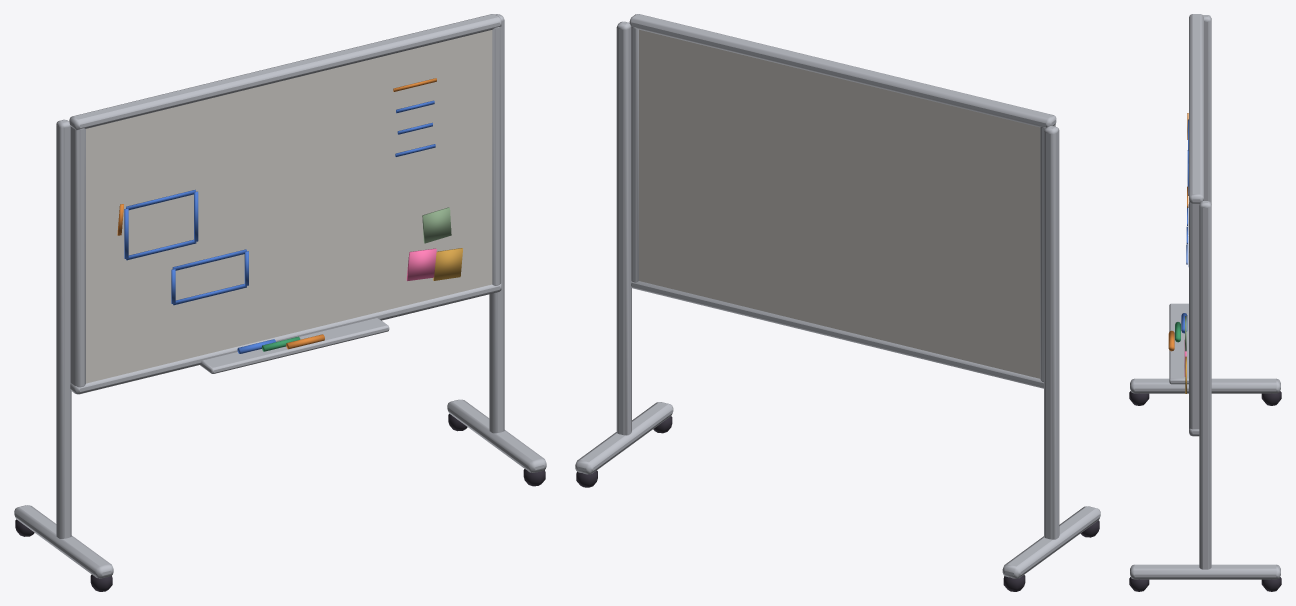
The model's file is whiteboard.glb.
3 views of the same model, side by side, from view 1: azimuth 30°, elevation 25°; view 2: azimuth 150°, elevation 25°; view 3: azimuth 270°, elevation 25° (orthographic). The views are drawn at different scales.
Parts seen in each view (by area): view 1: whiteboard; view 2: whiteboard; view 3: whiteboard.
Boxes of the visible parts, x1,y1,x2,y2 form: whiteboard: (14, 14, 546, 591); whiteboard: (575, 14, 1100, 591); whiteboard: (1129, 14, 1281, 591).
Bounding box in the file's own units: 1.53 × 1.44 × 0.5066.
